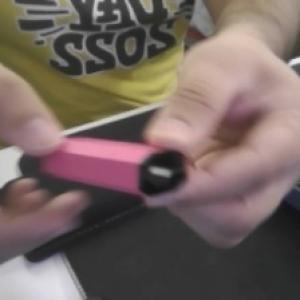Blume-E-Ciggirate: (34, 138, 190, 199)
